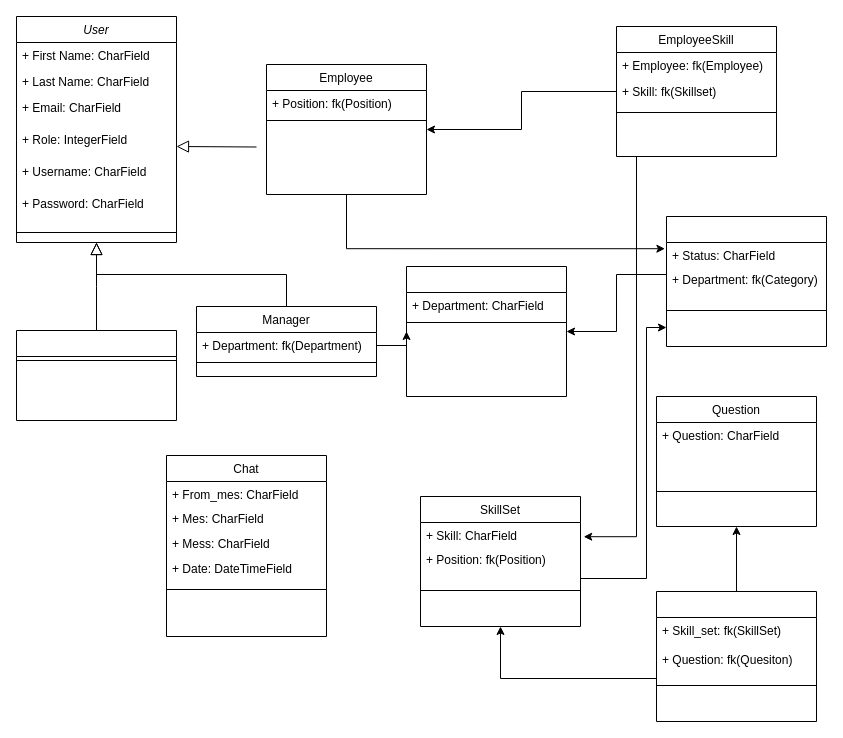
Some shapes in this 843 by 738 pixel diagram are drawn without their labels. The box of each missing label's shape, as (x1, y1, x2, y2) in pixels:
Admin: (16, 330, 176, 420)
Category: (406, 266, 566, 396)
Position: (666, 216, 826, 346)
SkillQuestion: (656, 590, 816, 722)
